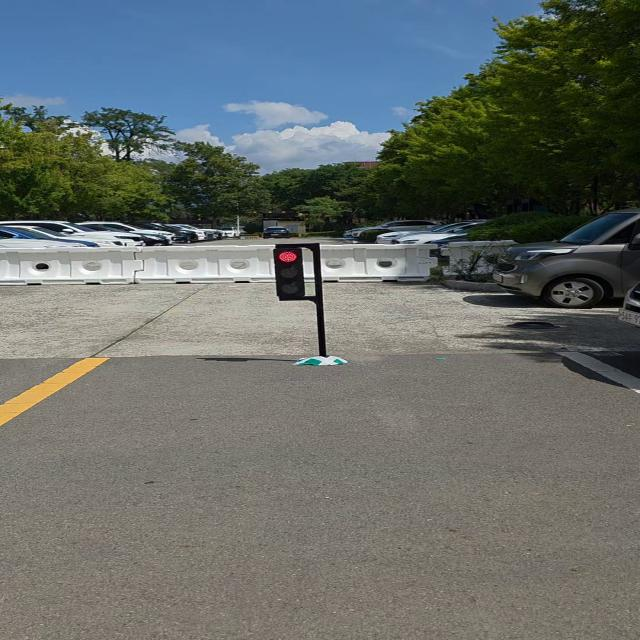red: (268, 246, 308, 299)
